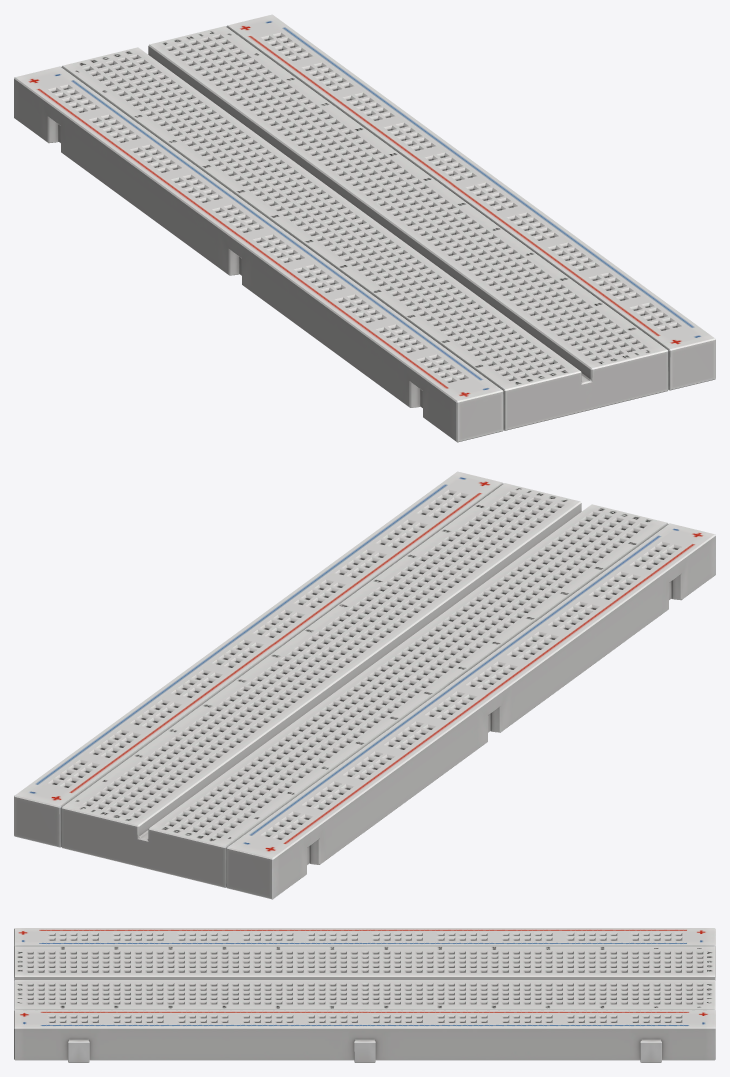
The model's file is breadboard.glb.
3 renders of one model, top to bottom at view 1: azimuth 30°, elevation 25°; view 2: azimuth 150°, elevation 25°; view 3: azimuth 270°, elevation 25°, orthographic. The views are drawn at different scales.
Visible parts, largest first — view 1: breadboard_C_001_DMSH, breadboard_L_001_DMSH, breadboard_R_001_DMSH; view 2: breadboard_C_001_DMSH, breadboard_L_001_DMSH, breadboard_R_001_DMSH; view 3: breadboard_C_001_DMSH, breadboard_R_001_DMSH, breadboard_L_001_DMSH.
Boxes of the visible parts, x1,y1,x2,y2 form: breadboard_C_001_DMSH: [61, 26, 668, 430]; breadboard_L_001_DMSH: [14, 66, 503, 442]; breadboard_R_001_DMSH: [226, 14, 715, 390]; breadboard_C_001_DMSH: [61, 483, 668, 887]; breadboard_L_001_DMSH: [226, 523, 715, 899]; breadboard_R_001_DMSH: [14, 471, 503, 847]; breadboard_C_001_DMSH: [14, 946, 715, 1010]; breadboard_R_001_DMSH: [14, 1010, 715, 1062]; breadboard_L_001_DMSH: [14, 928, 715, 976].
Size of the model in its own units: 0.0572 by 0.0085 by 0.1651.
2 materials, 2 textured.
